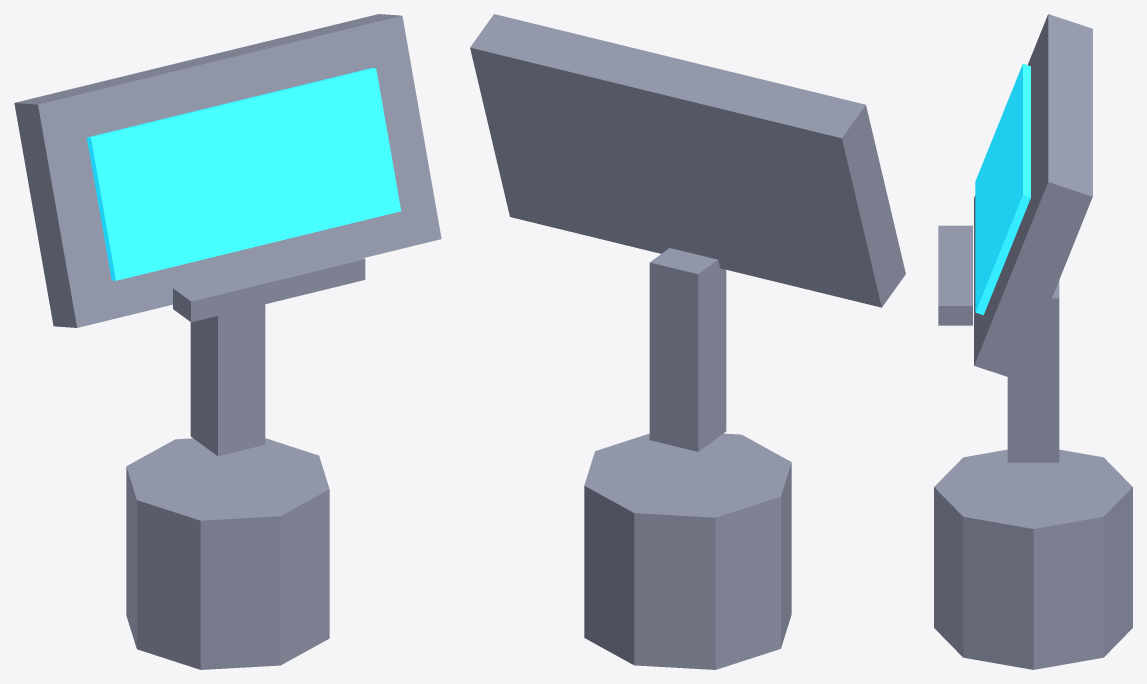
File: terminal.glb
3 views of the same model, side by side, from view 1: azimuth 30°, elevation 25°; view 2: azimuth 150°, elevation 25°; view 3: azimuth 270°, elevation 25° (orthographic). The views are drawn at different scales.
Visible parts, largest first — view 1: frame, screen, base, stem, lip; view 2: frame, base, stem; view 3: base, frame, screen, stem, lip.
Boxes of the visible parts, box(x1,y1,x2,y2) form: frame: box(14, 14, 441, 327); screen: box(87, 68, 401, 280); base: box(126, 438, 329, 669); stem: box(190, 304, 265, 456); lip: box(173, 246, 365, 322); frame: box(470, 14, 905, 307); base: box(584, 433, 791, 669); stem: box(649, 248, 726, 451); base: box(934, 449, 1132, 669); frame: box(974, 14, 1092, 380); screen: box(975, 63, 1030, 315); stem: box(1007, 280, 1059, 462); lip: box(938, 225, 972, 325).
Bounding box in the file's own units: 0.92 × 1.35 × 0.46.
